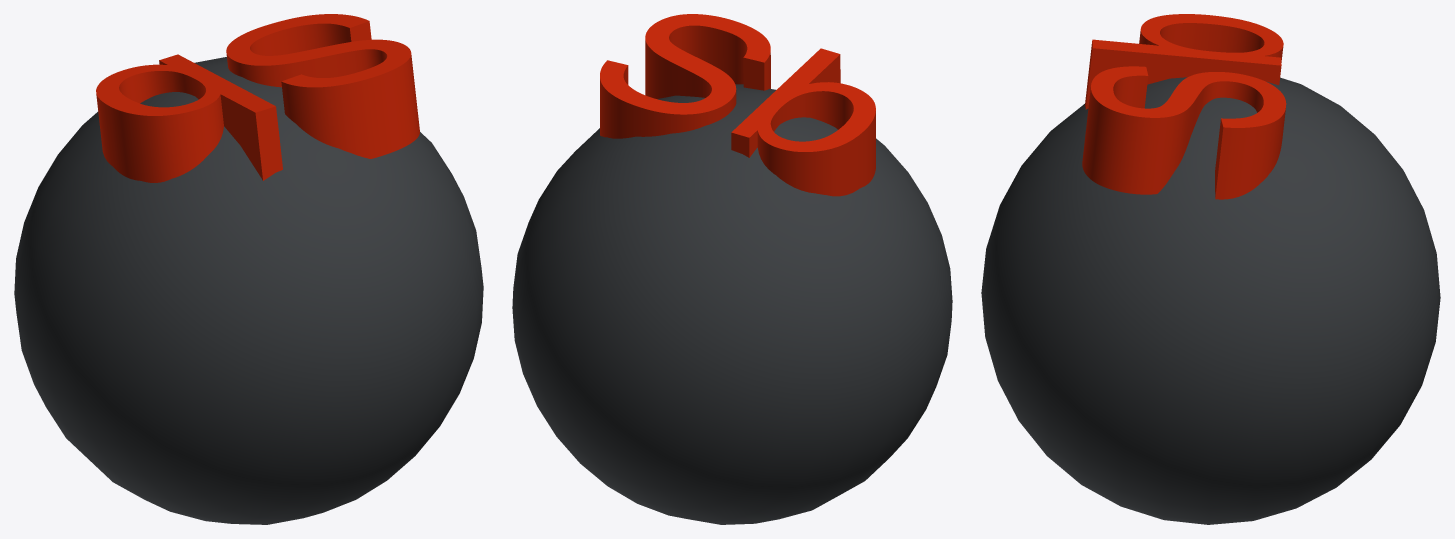
3 renders of one model, left to right at view 1: azimuth 30°, elevation 25°; view 2: azimuth 150°, elevation 25°; view 3: azimuth 270°, elevation 25°, orthographic. The views are drawn at different scales.
Parts seen in each view (by area): view 1: Sb; view 2: Sb; view 3: Sb.
Boxes of the visible parts, left/top/right/bottom form: Sb: left=14, top=14, right=483, bottom=524; Sb: left=512, top=14, right=952, bottom=524; Sb: left=981, top=14, right=1440, bottom=524.
Bounding box in the file's own units: 38.72 × 41.56 × 38.74.
